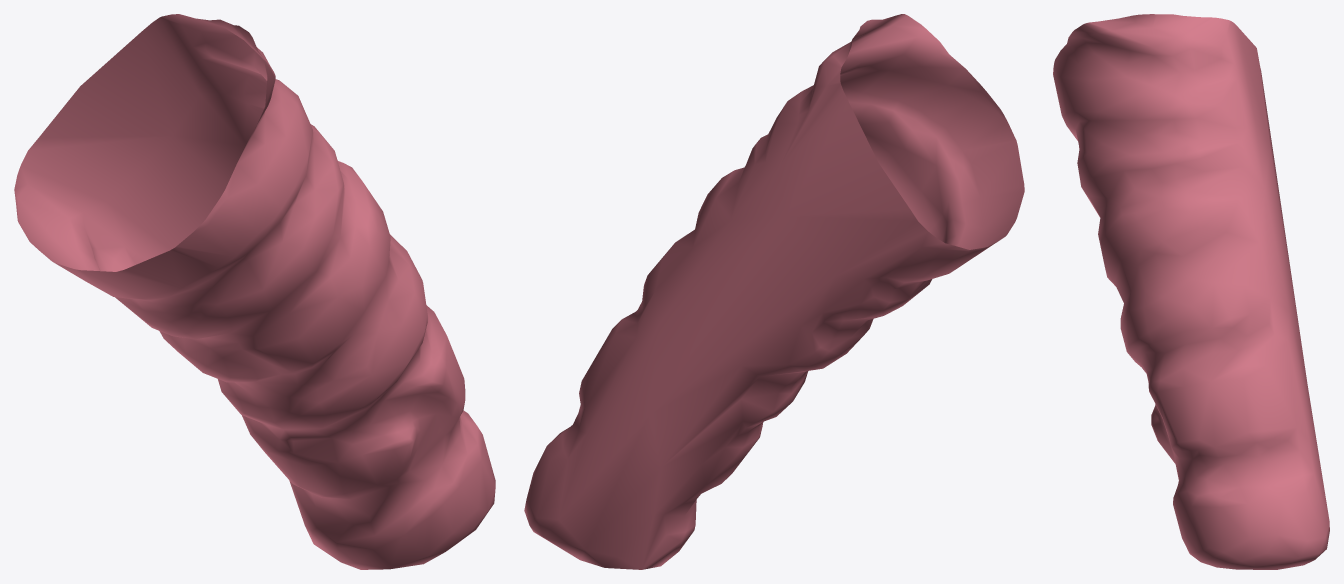
Rendered from Inferior_lobar_bronchus_left.glb.
The picture shows the model from 3 angles, left to right: view 1: azimuth 30°, elevation 25°; view 2: azimuth 150°, elevation 25°; view 3: azimuth 270°, elevation 25°; orthographic projection. The views are drawn at different scales.
Visible parts, largest first — view 1: Left_inferior_lobar_bronchus_grp1.283; view 2: Left_inferior_lobar_bronchus_grp1.283; view 3: Left_inferior_lobar_bronchus_grp1.283.
Boxes of the visible parts, x1,y1,x2,y2 form: Left_inferior_lobar_bronchus_grp1.283: [14, 14, 495, 569]; Left_inferior_lobar_bronchus_grp1.283: [524, 14, 1024, 569]; Left_inferior_lobar_bronchus_grp1.283: [1053, 14, 1329, 569].
Bounding box in the file's own units: 0.025 × 0.0304 × 0.0162.
